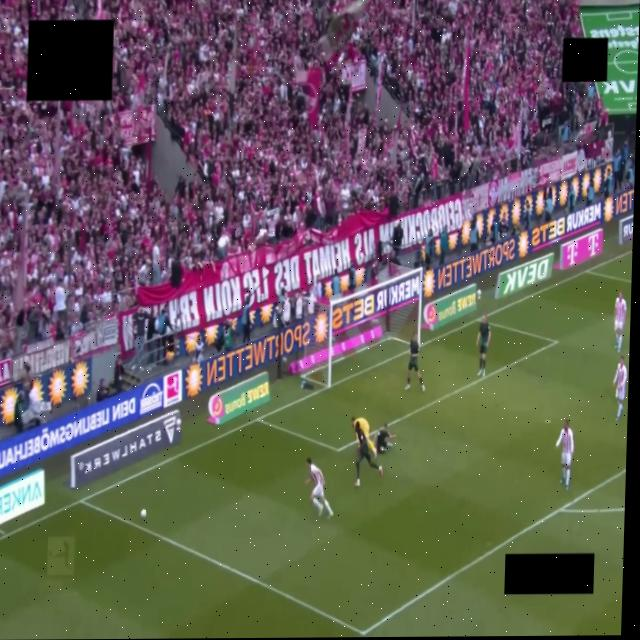ball: (140, 510, 146, 518)
player: (351, 418, 382, 486), (306, 458, 332, 516), (556, 420, 573, 489), (405, 333, 423, 391), (351, 418, 376, 457), (613, 356, 627, 420), (477, 315, 490, 376), (614, 292, 626, 352), (376, 425, 394, 453)
